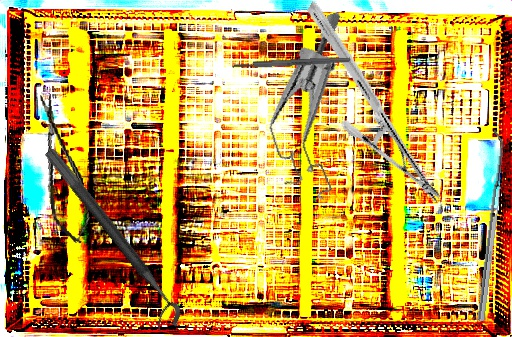Fixation Ring: (30, 146, 188, 337)
Micro Scissor: (31, 89, 94, 247)
Needle Holder: (255, 1, 493, 204)
Scalpel Handle: (231, 56, 352, 70)
Spatula Surgical: (470, 129, 508, 322)
Speculum: (238, 11, 392, 209)
